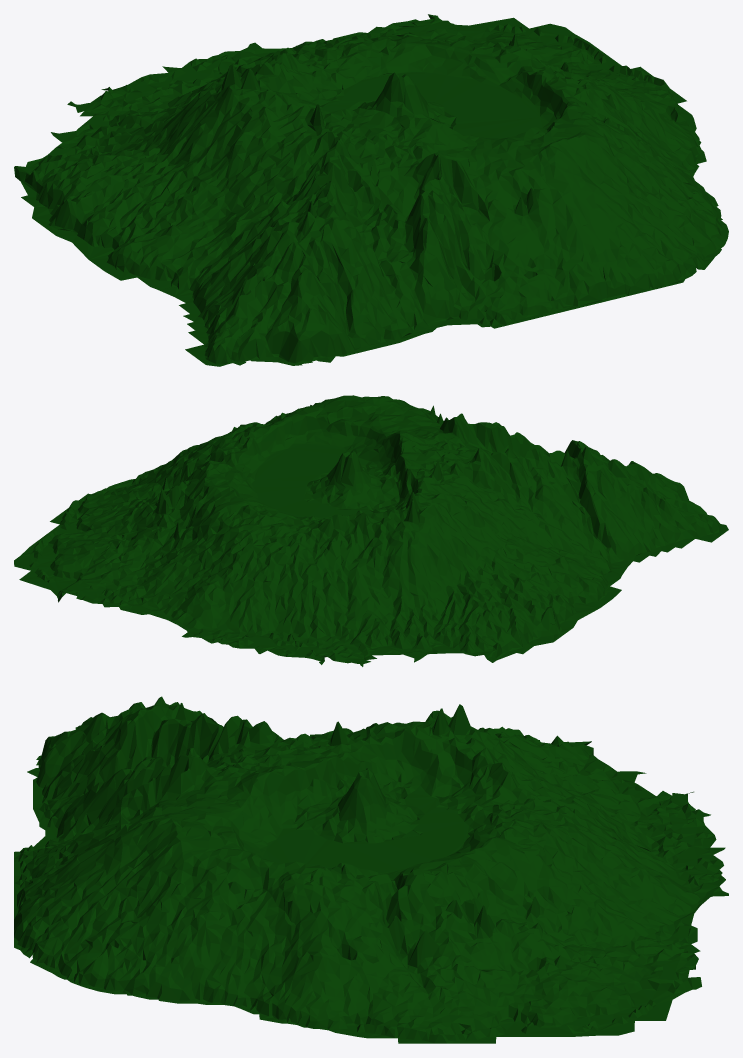
The model's file is IslandDistance.FBX.
3 views of the same model, one above another, from view 1: azimuth 30°, elevation 25°; view 2: azimuth 150°, elevation 25°; view 3: azimuth 270°, elevation 25° (orthographic). The views are drawn at different scales.
Parts seen in each view (by area): view 1: Plane001; view 2: Plane001; view 3: Plane001.
Boxes of the visible parts, x1,y1,x2,y2 form: Plane001: (14, 14, 728, 366); Plane001: (14, 395, 728, 666); Plane001: (14, 696, 728, 1043).
Size of the model in its own units: 132 by 23.73 by 124.
